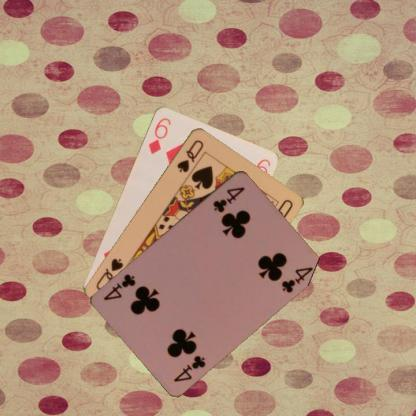4c: (210, 184, 246, 214), (171, 353, 207, 383)
6d: (146, 115, 172, 156)
Qs: (174, 136, 205, 174)
